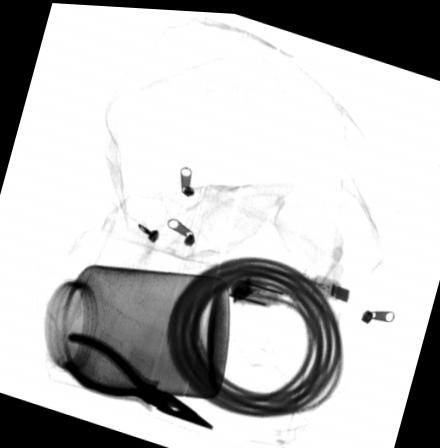Pliers: (60, 331, 216, 430)
